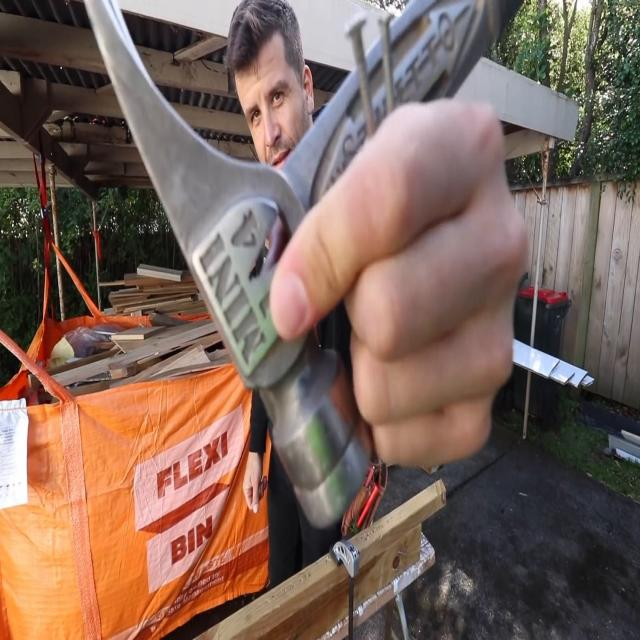hammer: (84, 2, 530, 532)
